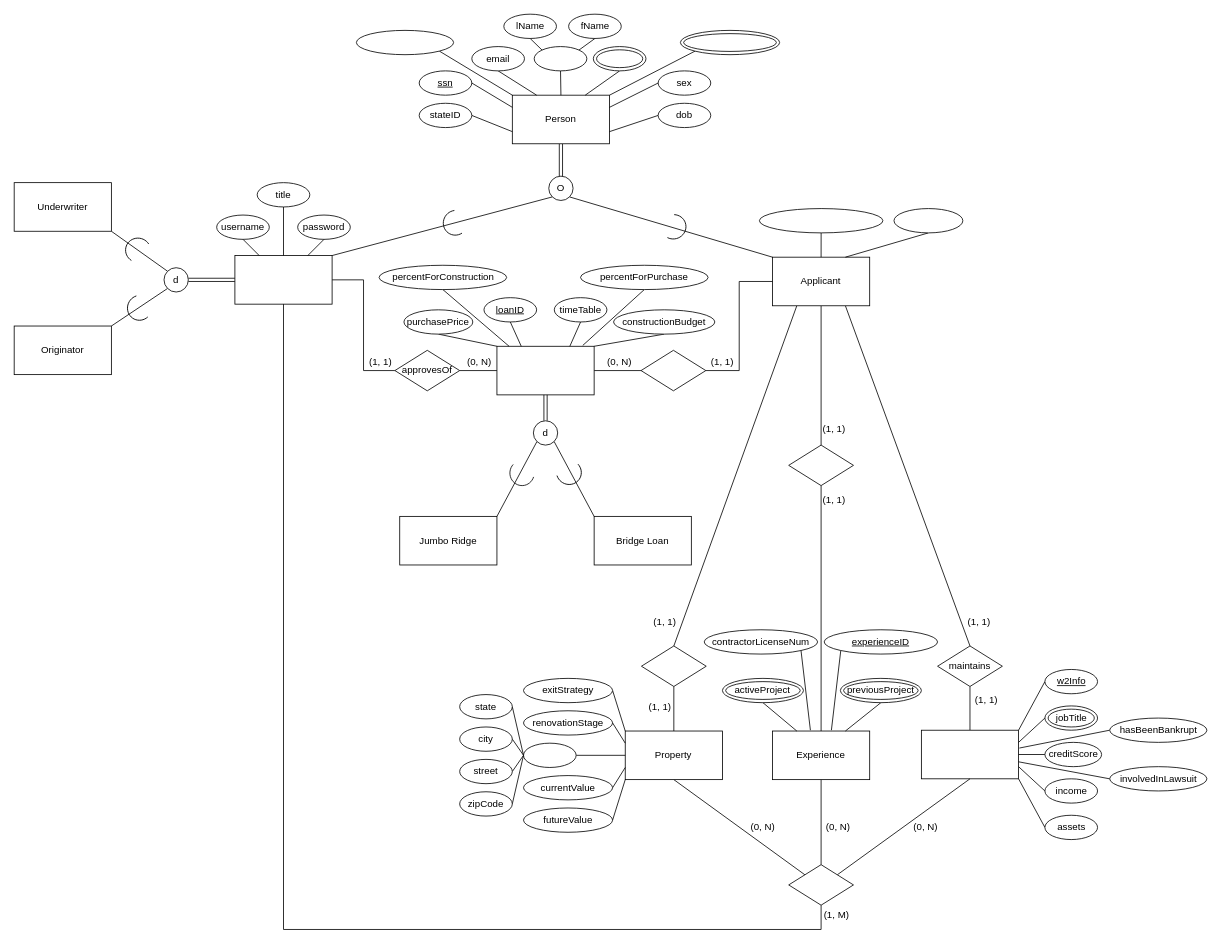
The diagram is 1221 pixels wide and 944 high, and some of its shapes have lost their labels. The box of each missing label's shape, as (x1, y1, x2, y2) in pixels:
address: (523, 742, 576, 767)
aquires: (640, 350, 706, 391)
collegeDegree: (680, 30, 780, 55)
Employee: (234, 255, 332, 304)
Finances: (921, 729, 1019, 779)
liabilityInsuranceProvider: (759, 208, 883, 233)
Loan: (496, 345, 594, 395)
name: (533, 46, 587, 71)
owns: (641, 645, 706, 686)
phone: (593, 46, 646, 71)
possesses: (788, 444, 853, 486)
proofOfCitizenship: (356, 30, 454, 55)
titleProvider: (893, 208, 963, 233)
views: (788, 864, 853, 905)
